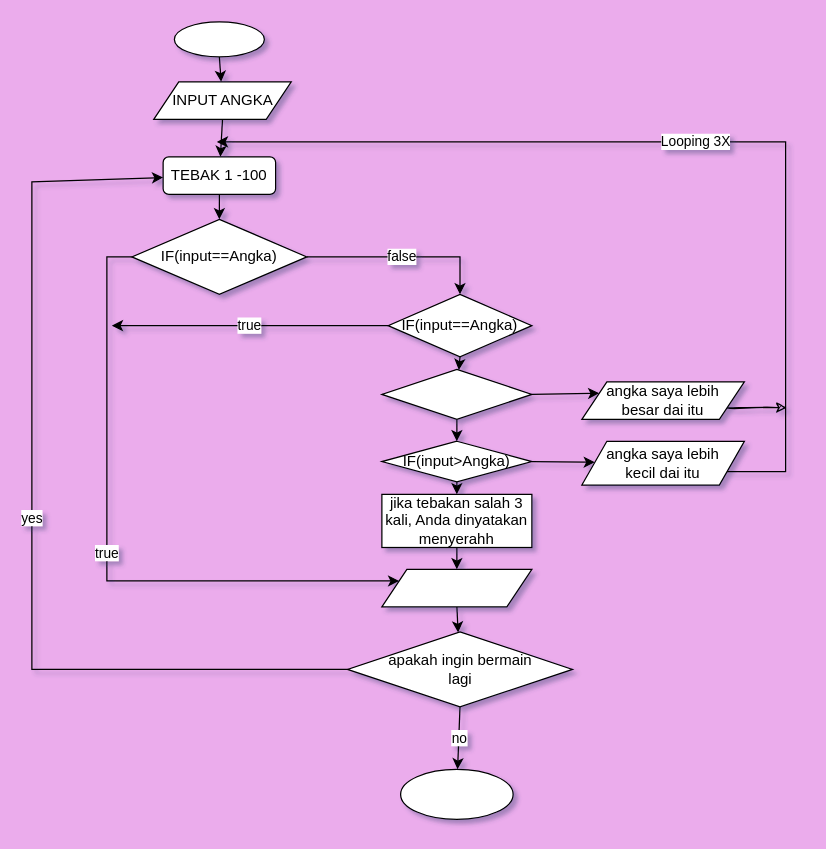
Some shapes in this 826 by 849 pixel diagram are drawn without their labels. Each missing label, with the centre of its shape:
IF(input<Angka): the point at 456,393
jawaban benar: the point at 456,587
MULAI: the point at 218,39
SELESAI: the point at 456,793
